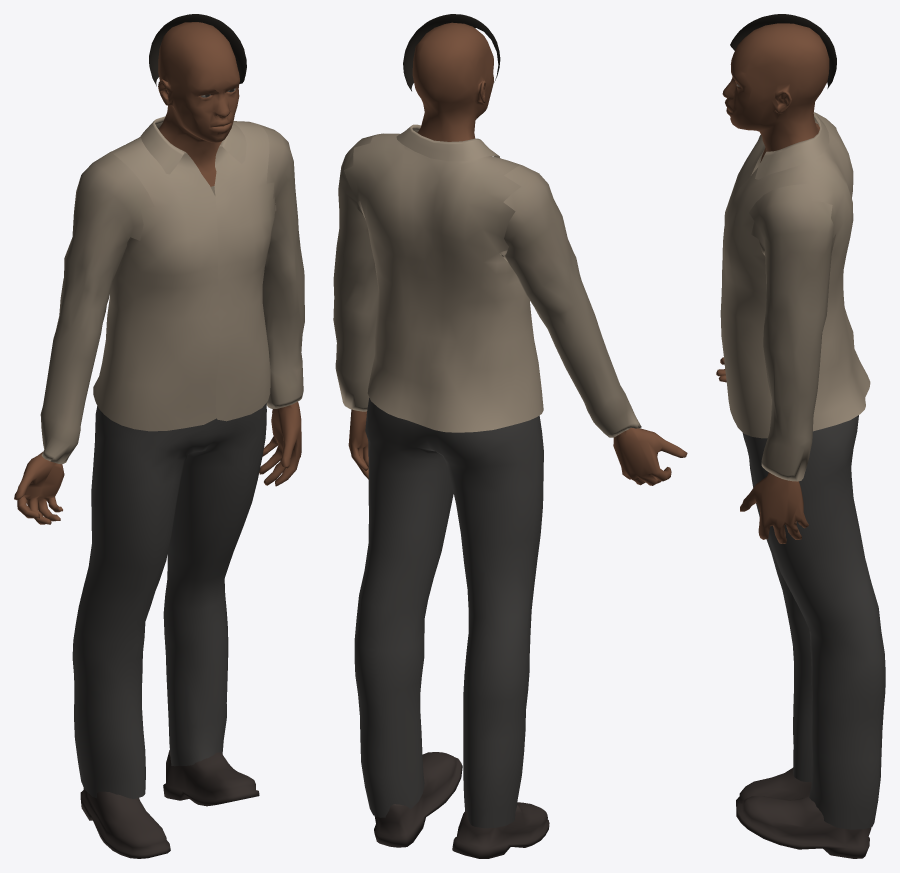
File: participant-24-middle.glb
The picture shows the model from 3 angles, left to right: view 1: azimuth 30°, elevation 25°; view 2: azimuth 150°, elevation 25°; view 3: azimuth 270°, elevation 25°; orthographic projection. The views are drawn at different scales.
Visible parts, largest first — view 1: Participant anatomy and ordinary clothes; view 2: Participant anatomy and ordinary clothes; view 3: Participant anatomy and ordinary clothes.
Part boxes in pixels (bbox=[...]): Participant anatomy and ordinary clothes: bbox=[14, 14, 304, 858]; Participant anatomy and ordinary clothes: bbox=[333, 14, 687, 858]; Participant anatomy and ordinary clothes: bbox=[716, 14, 885, 858].
Size of the model in its own units: 0.7284 by 1.76 by 0.3281.
